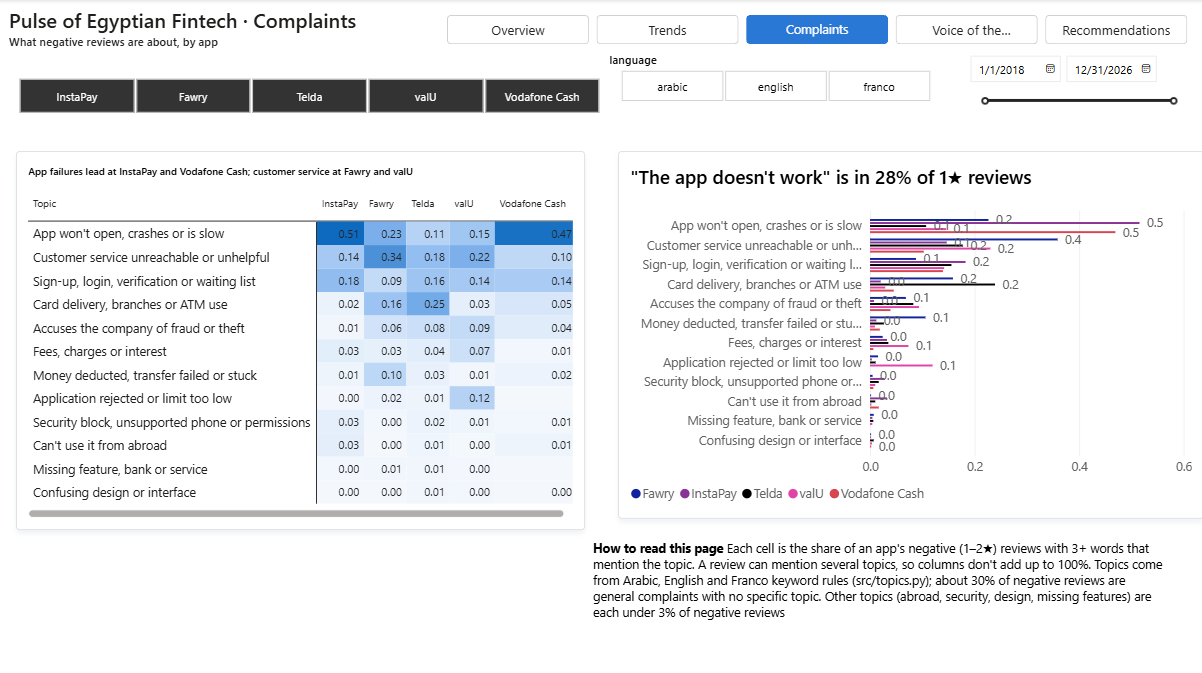

Layout of this report page (visuals, bound fields, positions):
{"tool":"powerbi","page":{"name":"Complaints","canvas":[1280,720],"ordinal":2},"visuals":[{"type":"textbox","box":[10,7.8,407.8,47.8],"z":0},{"type":"slicer","fields":{"Values":["dim_app.app"]},"box":[0,83.3,656.2,40],"z":1000},{"type":"slicer","fields":{"Values":["fact_reviews.language"]},"box":[640,56.2,367.5,53.8],"z":2000},{"type":"slicer","fields":{"Values":["Date.Date"]},"box":[1023.8,55,240,73.8],"z":3000},{"type":"pivotTable","title":"App failures lead at InstaPay and Vodafone Cash; customer service at Fawry and valU","fields":{"Columns":["dim_app.app"],"Rows":["dim_topic.topic"],"Values":["_Measures (2).% of Negative Reviews (Topic)"]},"box":[17,161.6,604.9,402.9],"z":4000},{"type":"clusteredBarChart","title":"\"The app doesn''t work\" is in 28% of 1★ reviews","fields":{"Category":["dim_topic.topic"],"Series":["fact_reviews.app"],"Y":["_Measures (2).% of Negative Reviews (Topic)"]},"box":[656.7,161.1,623.3,391.1],"z":5000},{"type":"textbox","box":[630,575.6,606.2,117.5],"z":6000},{"type":"pageNavigator","box":[475.6,16.7,788.9,31.1],"z":7000}]}

Visuals, with their boxes in screenshot pixels (x1, y1, x2, y2), scaled from the page's 1280x720 canvas onto the 1202x673 screenshot:
textbox: <region>9, 7, 392, 52</region>
slicer - dim_app.app: <region>0, 78, 616, 115</region>
slicer - fact_reviews.language: <region>601, 53, 946, 103</region>
slicer - Date.Date: <region>961, 51, 1187, 120</region>
"App failures lead at InstaPay and Vodafone Cash; customer service at Fawry and valU" pivotTable: <region>16, 151, 584, 528</region>
""The app doesn''t work" is in 28% of 1★ reviews" clusteredBarChart: <region>617, 151, 1201, 516</region>
textbox: <region>592, 538, 1161, 648</region>
pageNavigator: <region>447, 16, 1187, 45</region>
